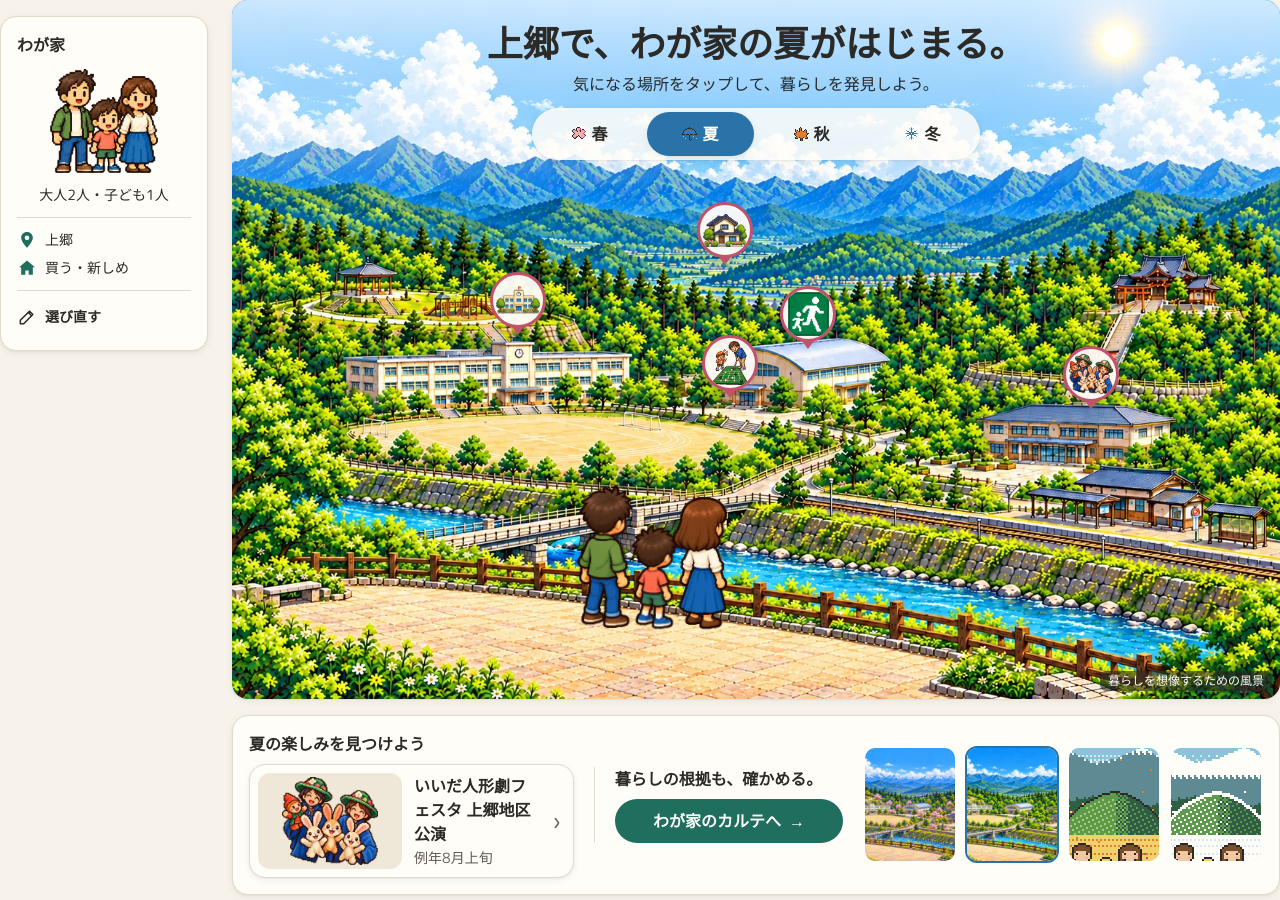
Test: KurashiView：上郷・夏の風景とピン（028） › 避難場所のピンを押すと、避難場所の数を見出しにしたシートに場面の文・出典・カルテの防災へのボタンを出す
Click the button named "避難場所" at (808, 318), box [780,286,836,349]
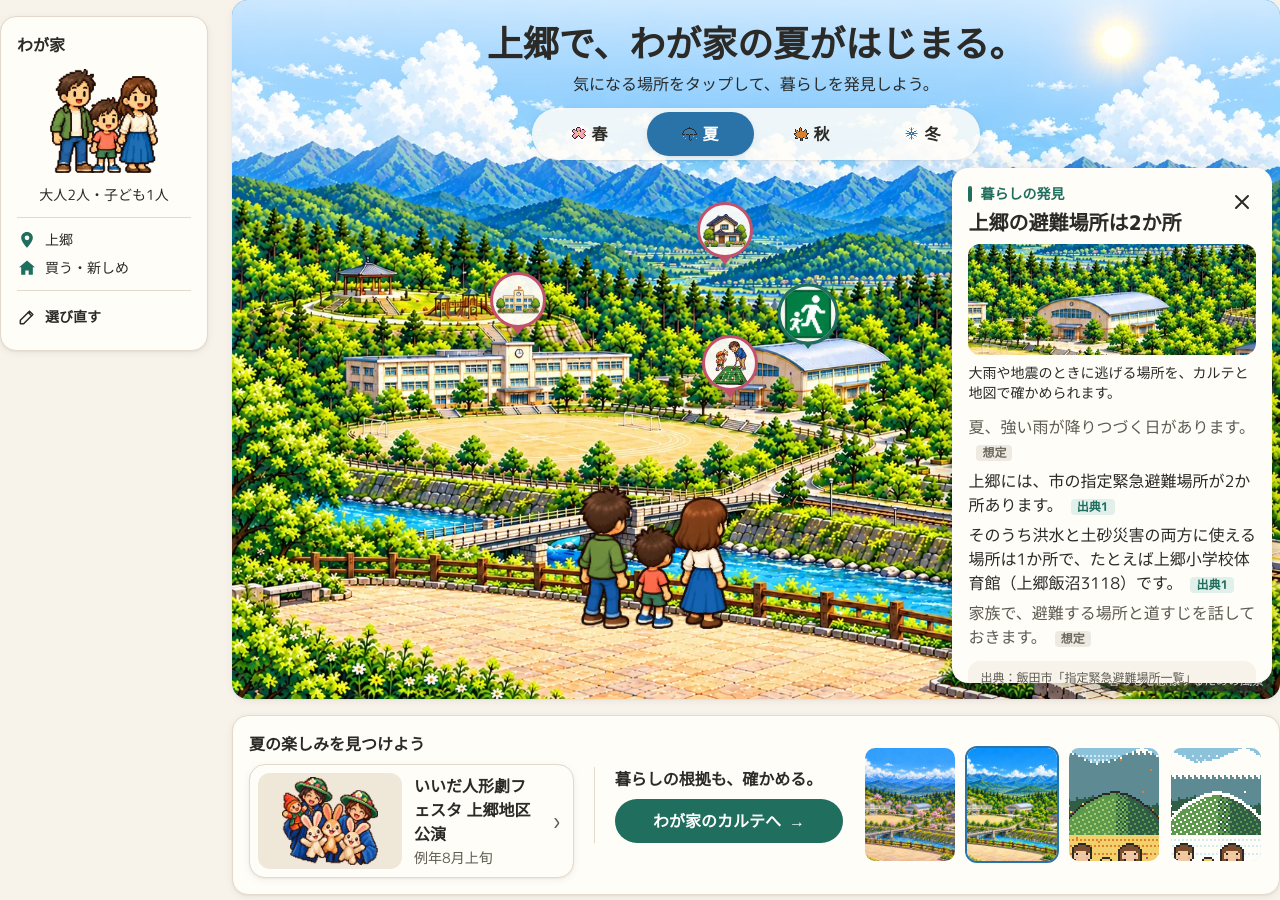
expect the text "夏、強い雨が降りつづく日があります。 想定" is shown: met, box [968,415,1256,463]
expect the dialog "上郷の避難場所は2か所" shows "洪水と土砂災害の両方に使える場所は1か所で、たとえば上郷小学校体育館": met, box [968,524,1256,594]
expect the dialog "上郷の避難場所は2か所" shows "出典：飯田市「指定緊急避難場所一覧」": met, box [952,168,1272,683]
